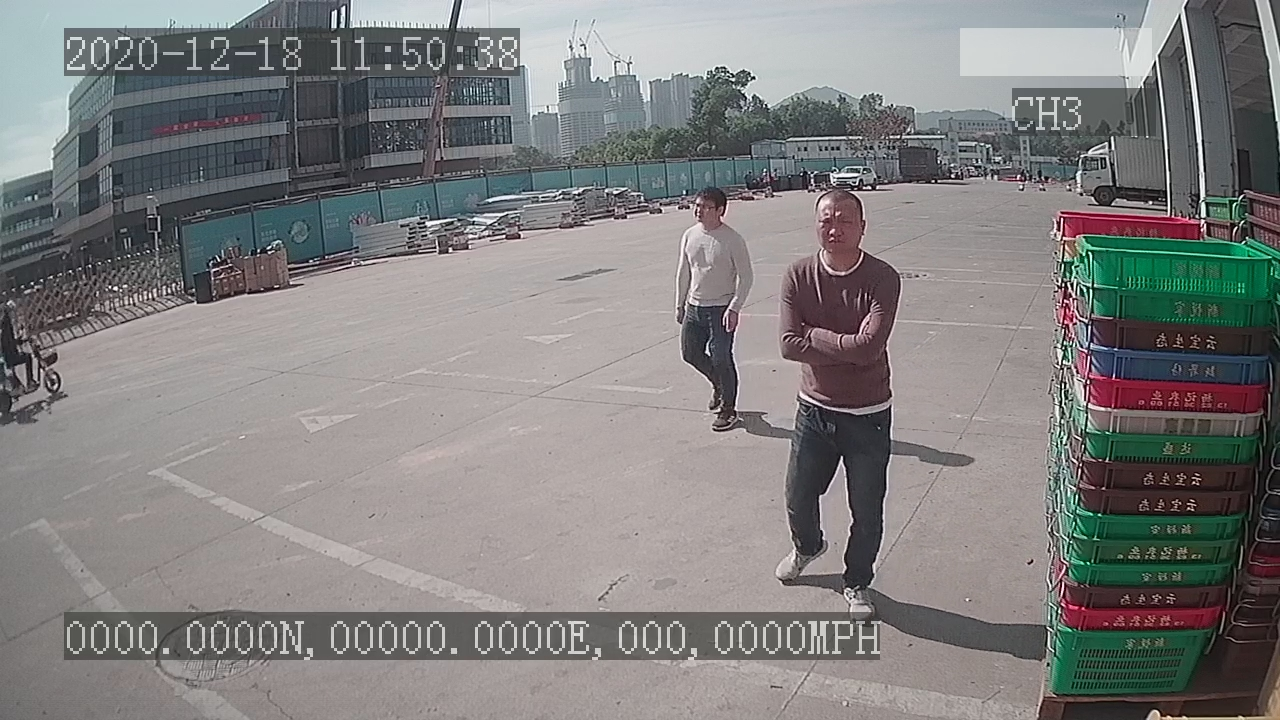person: (668, 185, 756, 435)
